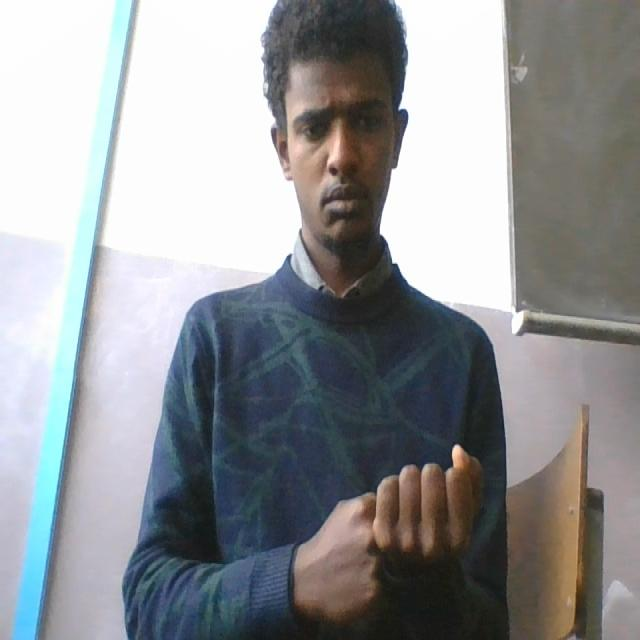beg: (278, 432, 496, 632)
